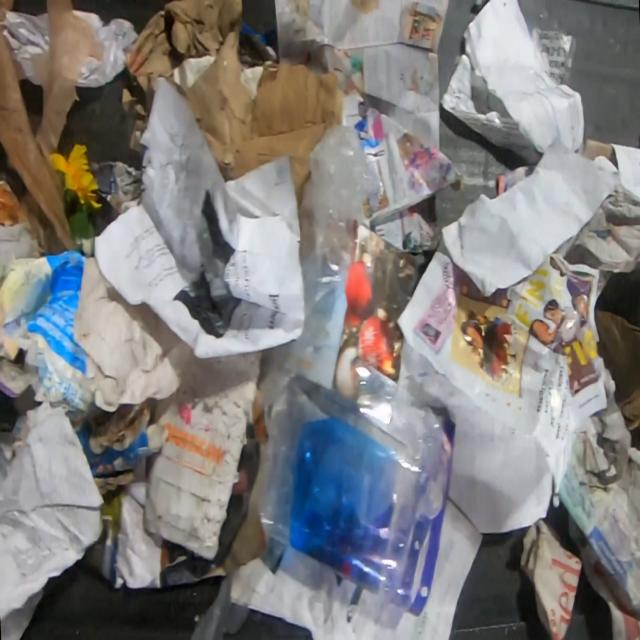cardboard: (120, 0, 344, 207), (142, 348, 265, 557), (0, 249, 104, 410), (593, 257, 640, 456), (0, 180, 44, 291), (0, 352, 40, 397)
soft_plastic: (258, 358, 455, 617), (264, 125, 384, 446)
